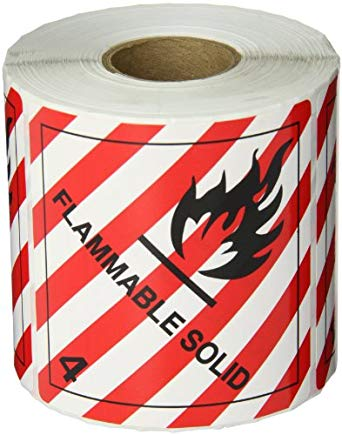FlammableSolid: (35, 115, 308, 401)
